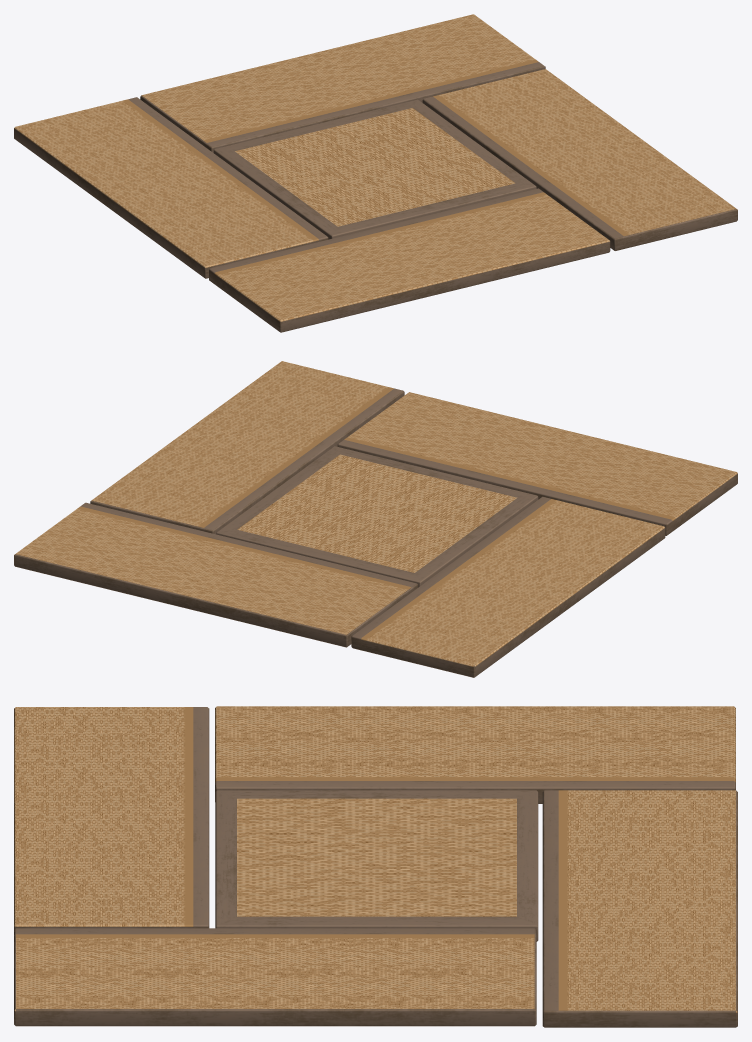
Rendered from SM_interior_modules_04.fbx.
3 views of the same model, one above another, from view 1: azimuth 30°, elevation 25°; view 2: azimuth 150°, elevation 25°; view 3: azimuth 270°, elevation 25° (orthographic). The views are drawn at different scales.
Parts seen in each view (by area): view 1: SM_interior_modules_04; view 2: SM_interior_modules_04; view 3: SM_interior_modules_04.
Part boxes in pixels (x1,y1,x2,y2): SM_interior_modules_04: (14,14,737,332); SM_interior_modules_04: (14,361,737,677); SM_interior_modules_04: (14,706,737,1027).
Bounding box in the file's own units: 266 × 266 × 7.
1 material, 1 textured.
